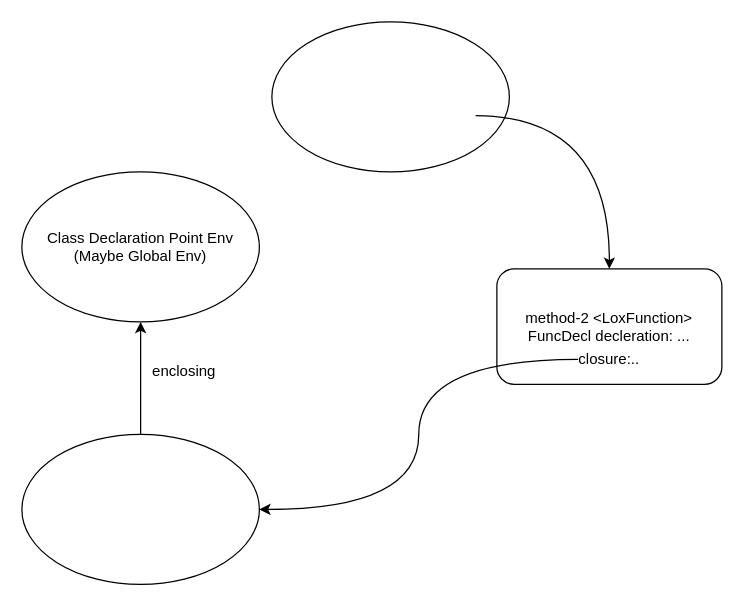
This 744x606 diagram has some shape labels left out. The shapes that lost their labels are listed below. From the top down, each one's box as (x1, y1, x2, y2) in pixels, then its label:
(271, 21, 509, 172): Class Method Map method-1: <LoxFunction> method-2: <LoxFunction>
(21, 433, 259, 584): Instance Env this: <Instance(this)> field-1: ... ...
